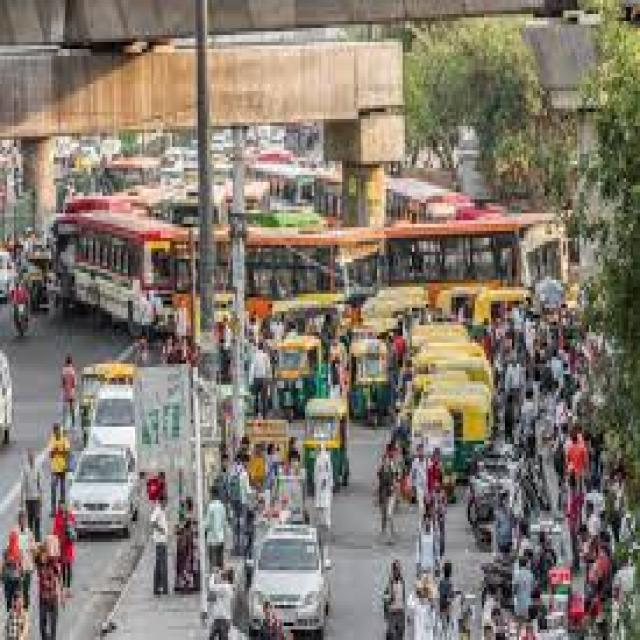bus: (56, 196, 186, 332), (386, 213, 566, 287), (247, 227, 372, 301)
car: (249, 525, 326, 640), (70, 448, 135, 535), (88, 385, 135, 458)
person: (37, 507, 72, 640), (49, 364, 70, 507), (421, 448, 445, 570), (377, 441, 403, 539), (175, 497, 198, 595), (21, 451, 40, 542), (54, 507, 74, 591), (19, 511, 35, 609), (384, 560, 403, 640), (2, 532, 19, 612), (151, 500, 165, 595), (317, 444, 330, 532), (410, 451, 424, 528), (61, 357, 74, 430), (7, 595, 28, 640), (263, 602, 284, 640)
three wheeler: (421, 381, 491, 472), (79, 360, 135, 444), (275, 336, 321, 420), (303, 399, 344, 493), (412, 343, 491, 388), (349, 343, 384, 423)
